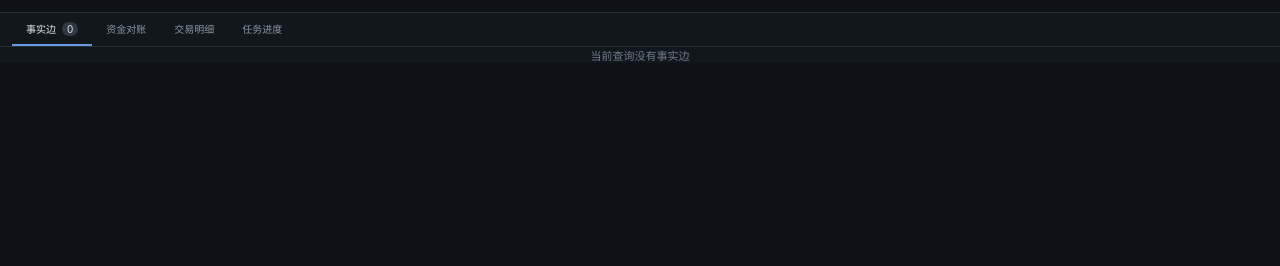
BottomPanel › shows money transfers, FIFO states, and reconciliation
The width and height of the screenshot is (1280, 266).
Click the button "资金对账" at (126, 30), box 92,13 -> 160,46
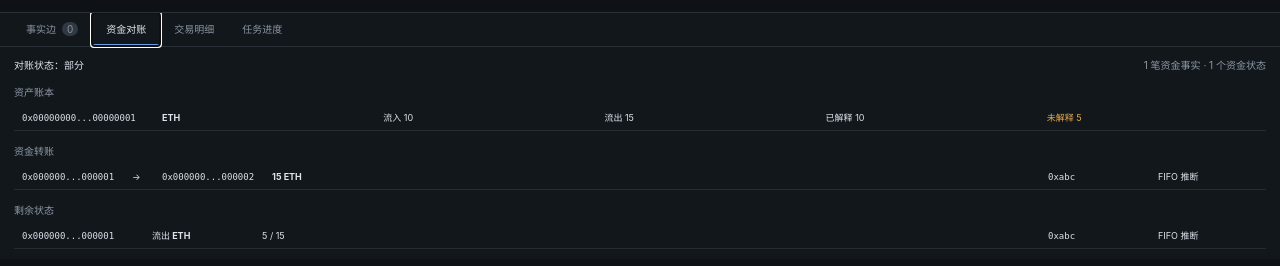
Expected: the text "对账状态：部分" is shown, 14,57 -> 84,72
Expected: the text "未解释 5" is shown, 1047,112 -> 1082,123
Expected: the text "FIFO 推断" is shown 2 times, 1158,171 -> 1198,182; 1158,230 -> 1198,241
